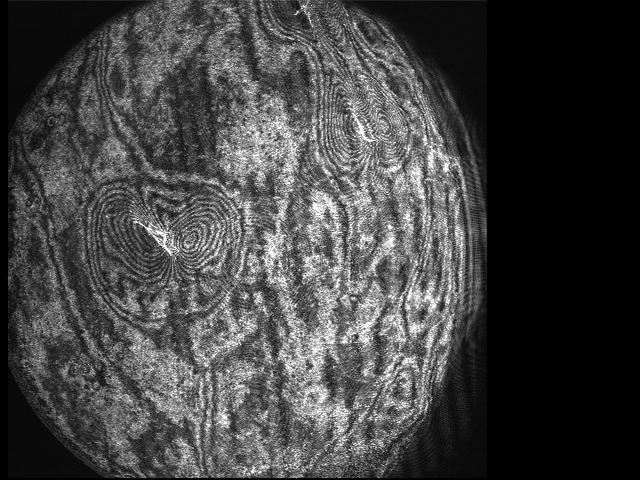plume: (85, 188, 243, 297)
